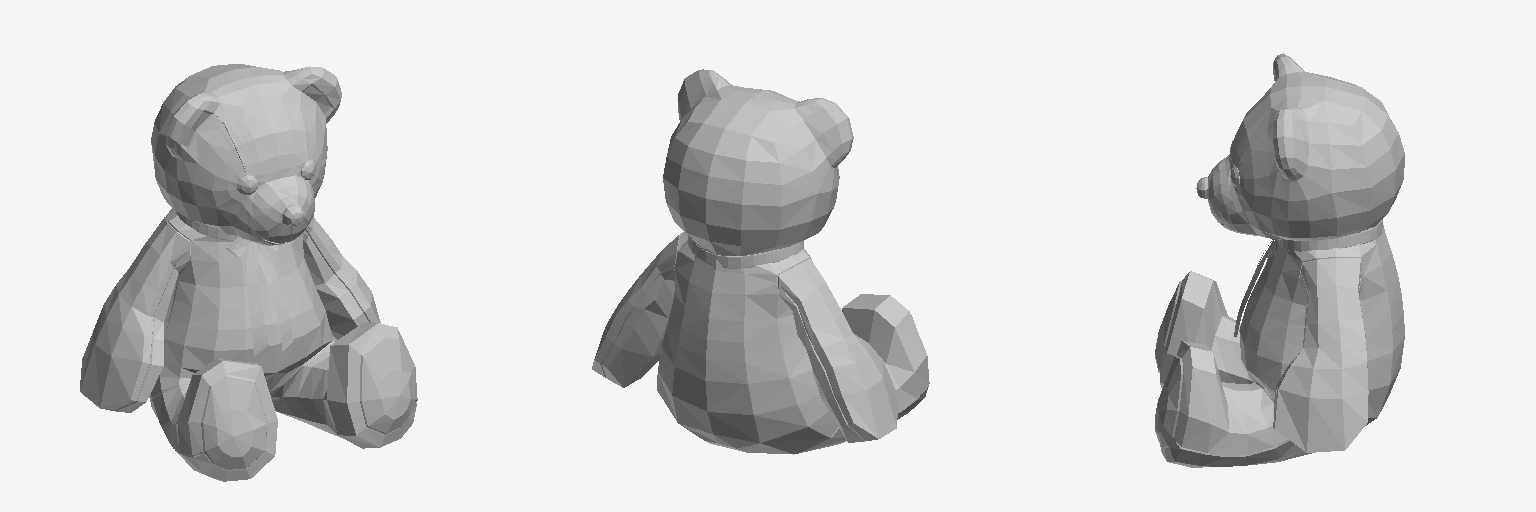
The model's file is kuma.obj.
The picture shows the model from 3 angles: view 1: azimuth 30°, elevation 25°; view 2: azimuth 150°, elevation 25°; view 3: azimuth 270°, elevation 25°; orthographic projection.
Visible parts, largest first — view 1: _3, _2, default, _5; view 2: _3, default; view 3: _3, _2, default.
Boxes of the visible parts, <box> form: _3: <box>80,64,417,481</box>; _2: <box>182,86,414,469</box>; default: <box>176,212,292,357</box>; _5: <box>237,160,315,226</box>; _3: <box>592,69,929,454</box>; default: <box>688,235,803,268</box>; _3: <box>1160,53,1404,467</box>; _2: <box>1155,154,1257,448</box>; default: <box>1234,219,1382,336</box>.
Bounding box in the file's own units: 0.6049 × 0.6991 × 0.4558.